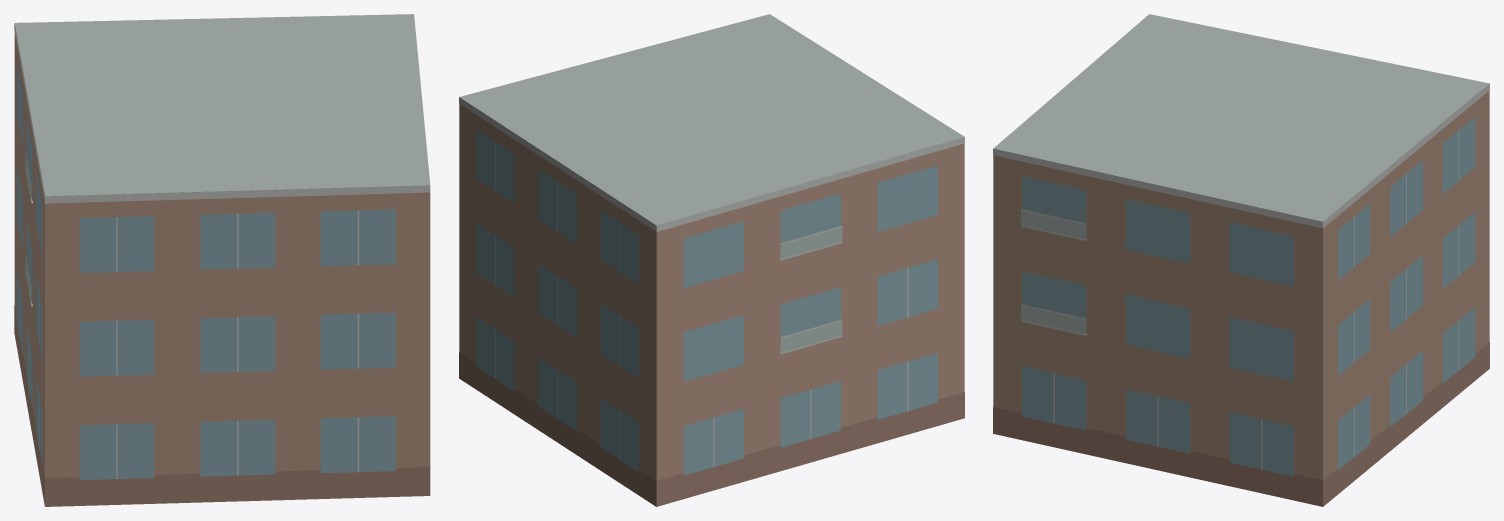
File: survey-upis-32949998.glb
3 renders of one model, left to right at view 1: azimuth 30°, elevation 25°; view 2: azimuth 150°, elevation 25°; view 3: azimuth 270°, elevation 25°, orthographic. The views are drawn at different scales.
Visible parts, largest first — view 1: survey-upis-32949998.tmp; view 2: survey-upis-32949998.tmp; view 3: survey-upis-32949998.tmp.
Boxes of the visible parts, left/top/right/bottom form: survey-upis-32949998.tmp: left=14, top=14, right=430, bottom=506; survey-upis-32949998.tmp: left=459, top=14, right=964, bottom=506; survey-upis-32949998.tmp: left=993, top=14, right=1489, bottom=506.
Bounding box in the file's own units: 16.33 × 10.45 × 16.5.
